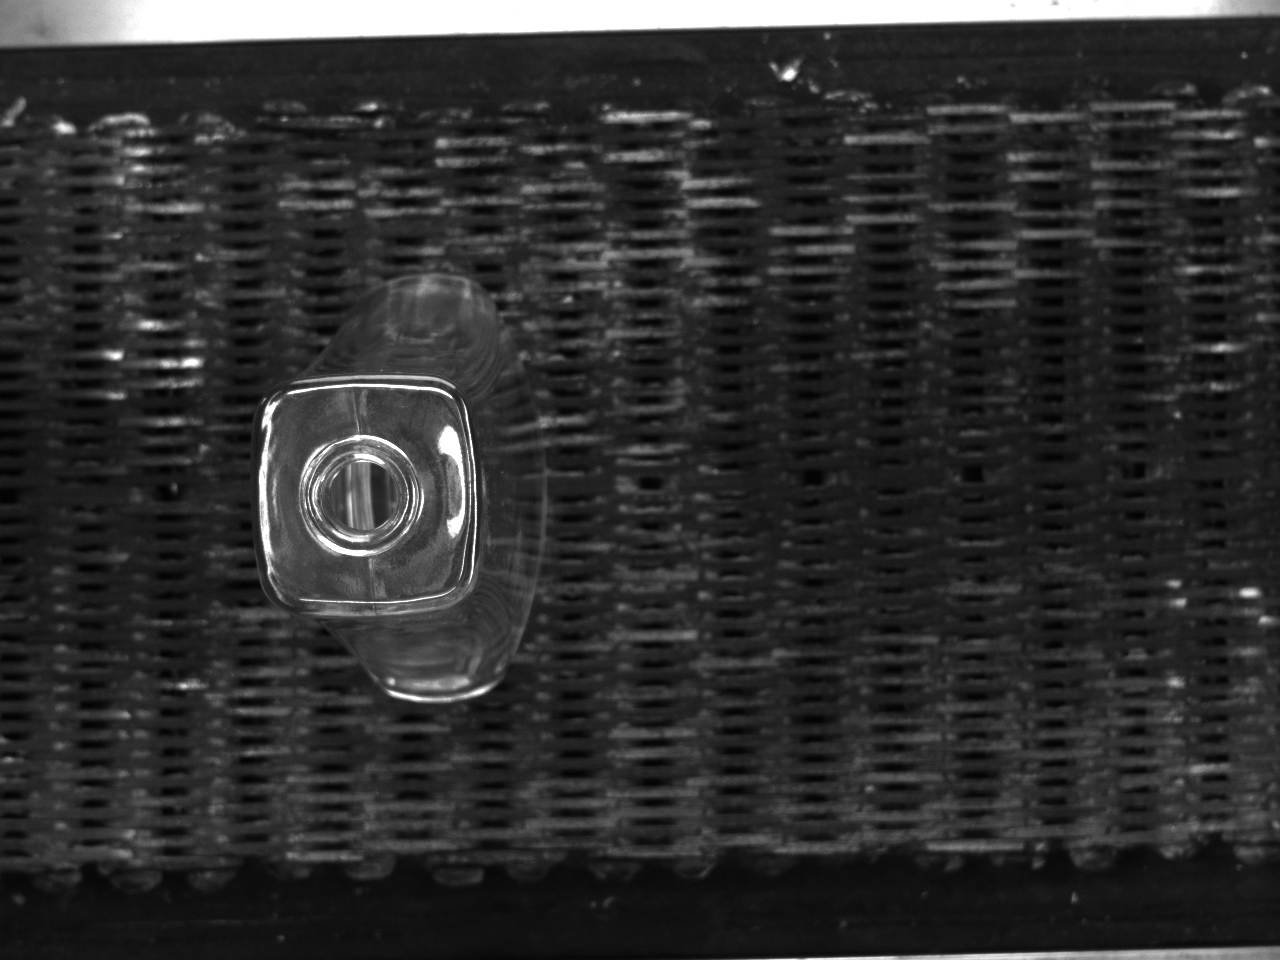bottleneck: (297, 435, 423, 558)
